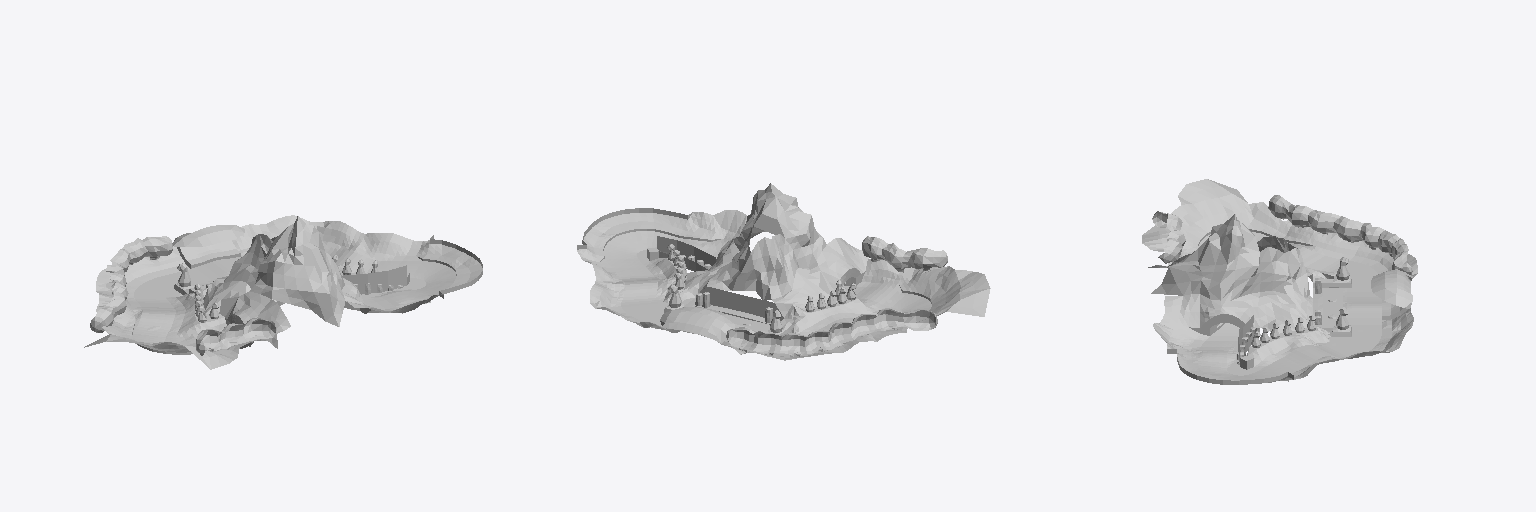
The model's file is data.Med.obj.
3 views of the same model, side by side, from view 1: azimuth 30°, elevation 25°; view 2: azimuth 150°, elevation 25°; view 3: azimuth 270°, elevation 25° (orthographic).
Parts seen in each view (by area): view 1: piece_013D, piece_013F, piece_02A2; view 2: piece_012F; view 3: piece_0106, piece_013E, piece_013A.
Boxes of the visible parts, x1=… form: piece_013D: x1=297, y1=290, x2=338, y2=326; piece_013F: x1=294, y1=265, x2=329, y2=293; piece_02A2: x1=273, y1=261, x2=296, y2=289; piece_012F: x1=754, y1=197, x2=784, y2=237; piece_0106: x1=1199, y1=233, x2=1231, y2=265; piece_013E: x1=1169, y1=267, x2=1202, y2=295; piece_013A: x1=1221, y1=254, x2=1252, y2=282.
Size of the model in its own units: 35218 by 8928 by 21586.